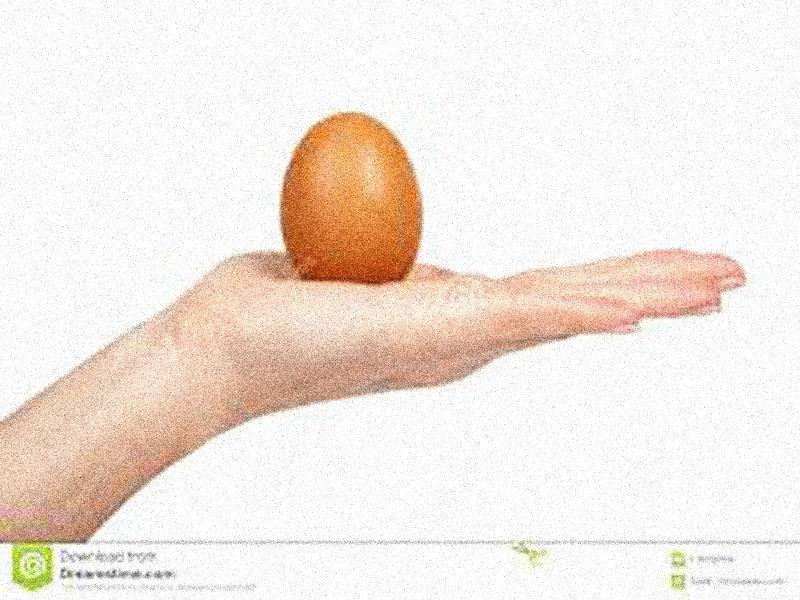Eggs: (283, 112, 423, 288)
